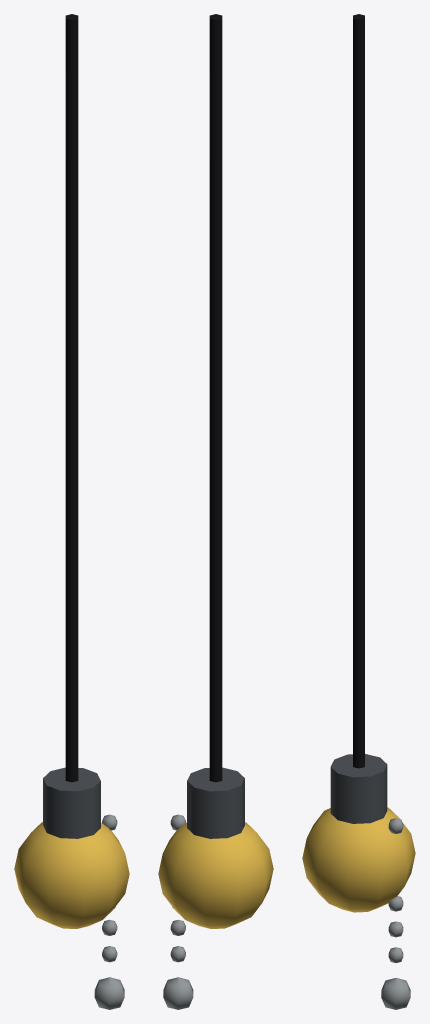
The model's file is Pull_chain_lamp.obj.
3 renders of one model, left to right at view 1: azimuth 30°, elevation 25°; view 2: azimuth 150°, elevation 25°; view 3: azimuth 330°, elevation 25°, orthographic.
Visible parts, largest first — view 1: Pull_chain_lamp; view 2: Pull_chain_lamp; view 3: Pull_chain_lamp.
Boxes of the visible parts, <box> form: Pull_chain_lamp: <box>14,14,129,1009</box>; Pull_chain_lamp: <box>158,14,273,1009</box>; Pull_chain_lamp: <box>302,14,415,1009</box>.
Size of the model in its own units: 0.082 by 0.762 by 0.0761.
